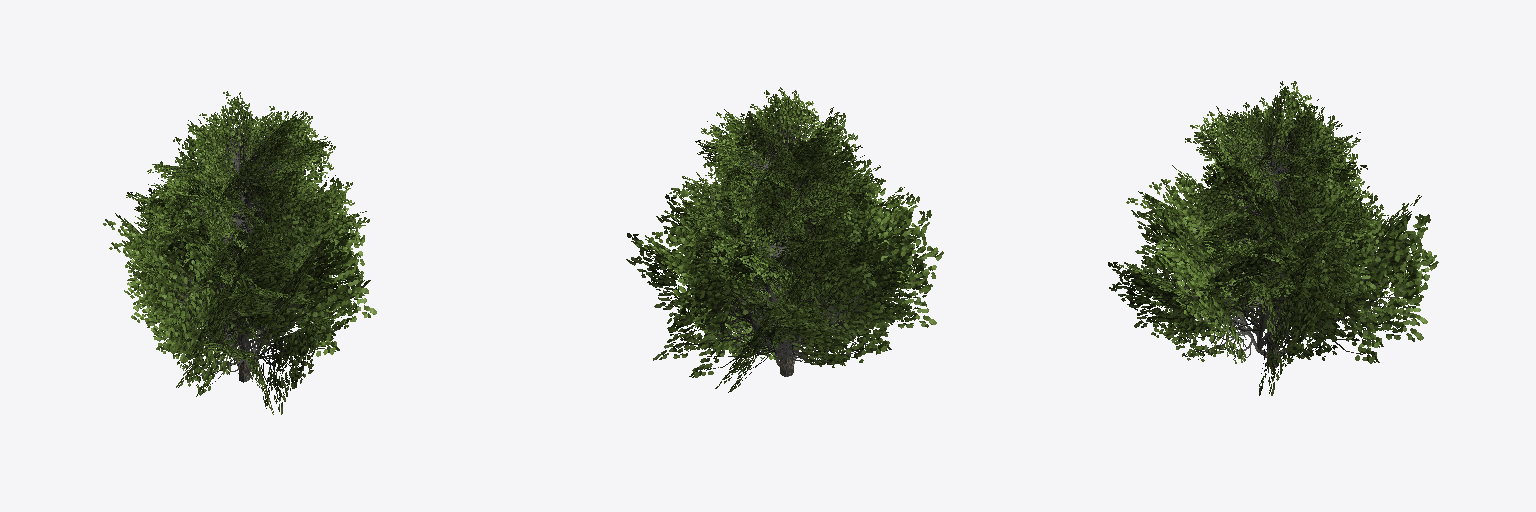
3 renders of one model, left to right at view 1: azimuth 30°, elevation 25°; view 2: azimuth 150°, elevation 25°; view 3: azimuth 270°, elevation 25°, orthographic.
Parts seen in each view (by area): view 1: Default; view 2: Default; view 3: Default.
Boxes of the visible parts, x1,y1,x2,y2 form: Default: [103, 91, 376, 414]; Default: [626, 87, 943, 392]; Default: [1108, 81, 1438, 395].
Size of the model in its own units: 6.15 by 5.13 by 6.44.
2 materials, 2 textured.